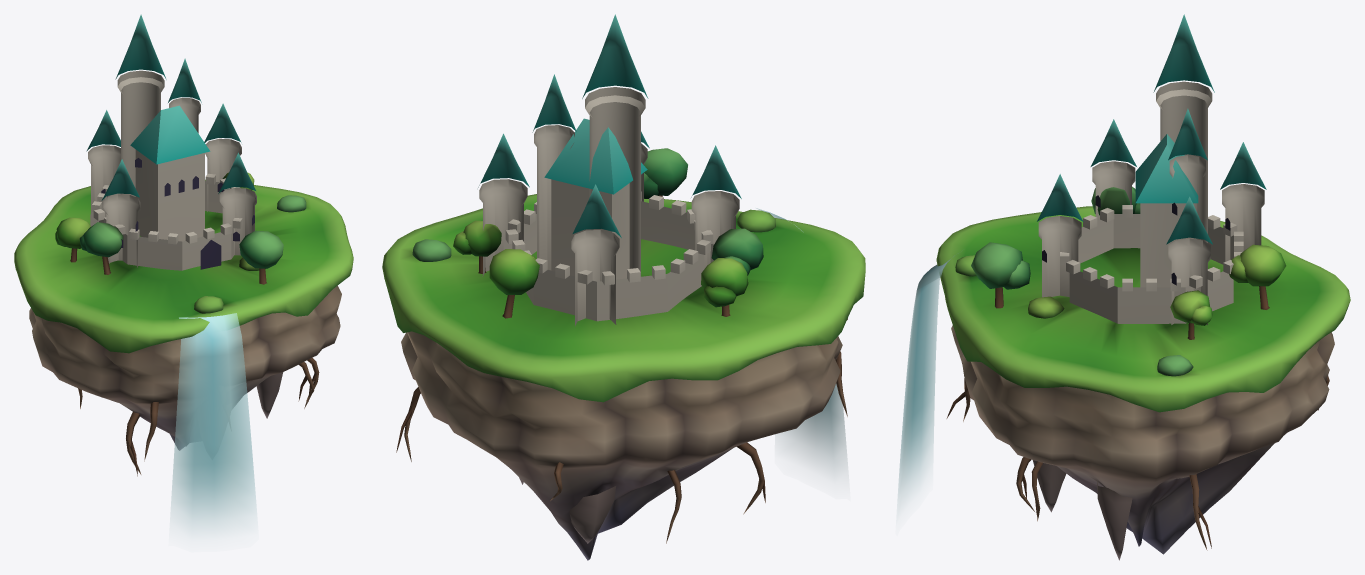
The model's file is island_castle.glb.
The picture shows the model from 3 angles, left to right: view 1: azimuth 30°, elevation 25°; view 2: azimuth 150°, elevation 25°; view 3: azimuth 270°, elevation 25°; orthographic projection. The views are drawn at different scales.
Visible parts, largest first — view 1: IslandCastle, IslandCastle_water; view 2: IslandCastle, IslandCastle_water; view 3: IslandCastle, IslandCastle_water.
Boxes of the visible parts, x1,y1,x2,y2 form: IslandCastle: [14, 14, 353, 476]; IslandCastle_water: [170, 313, 256, 532]; IslandCastle: [382, 14, 865, 560]; IslandCastle_water: [756, 208, 847, 473]; IslandCastle: [936, 14, 1350, 560]; IslandCastle_water: [898, 253, 958, 508].
Size of the model in its own units: 30.11 by 40.52 by 31.12.
